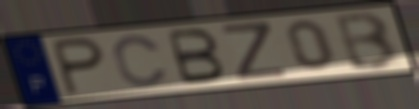0: (285, 18, 340, 73)
B: (334, 10, 402, 72), (165, 27, 228, 86)
C: (111, 33, 170, 89)
P: (49, 35, 107, 98)
Z: (219, 21, 291, 83)
